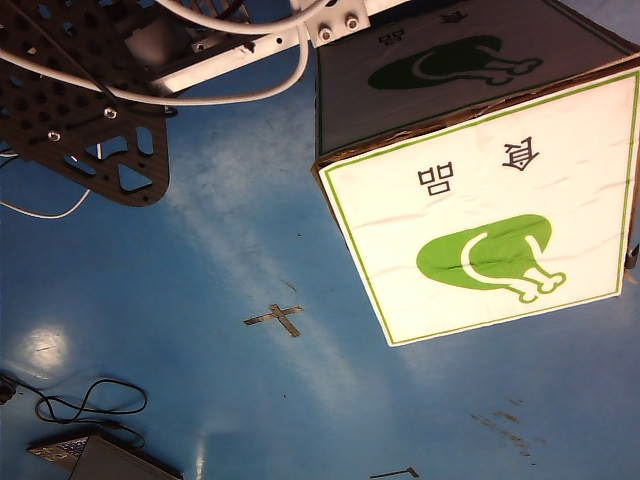Cube_food: (373, 134, 590, 311)
